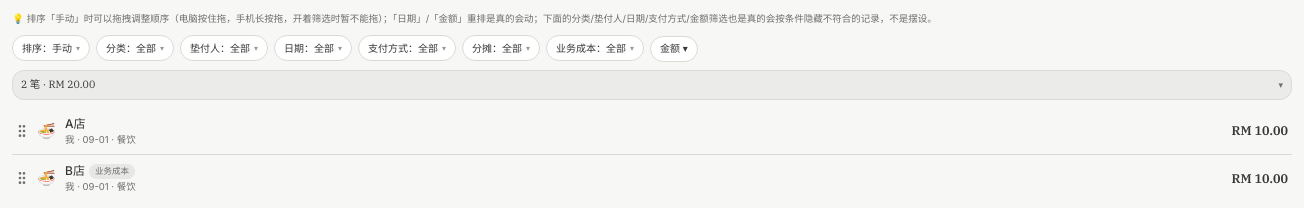
Test: ExpenseList — 2026-09-26 命名纠正任务新增：「业务成本」筛选（判断依据是 excludeFromSplit） › 切到「业务成本」：只剩 excludeFromSplit=true 的记录
This screenshot has width=1304, height=208.
Step 1. Click the button with aria-label "按是否业务成本筛选" → (595,48), box [546,35,644,61]
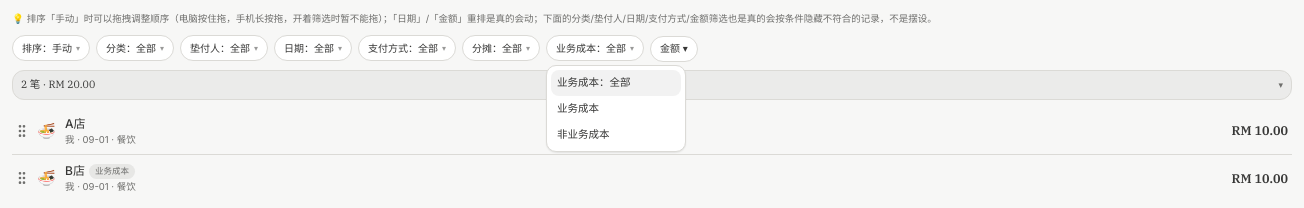
Step 2. Press the mouse on the option "业务成本" → (578,108), box [557,102,599,115]
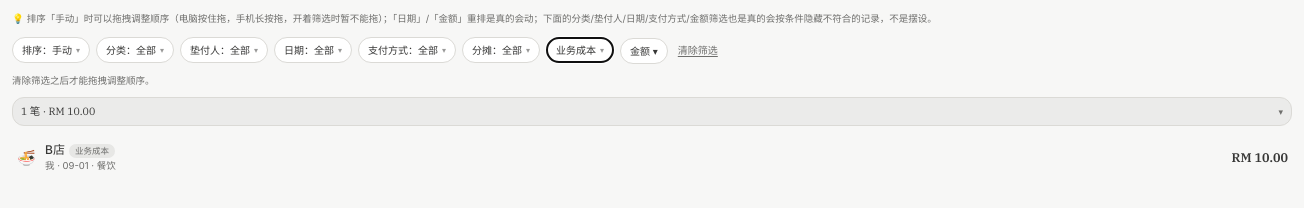
Expected: the text "B店" is shown, [45,142,65,157]
Expected: the button "A店" is gone
